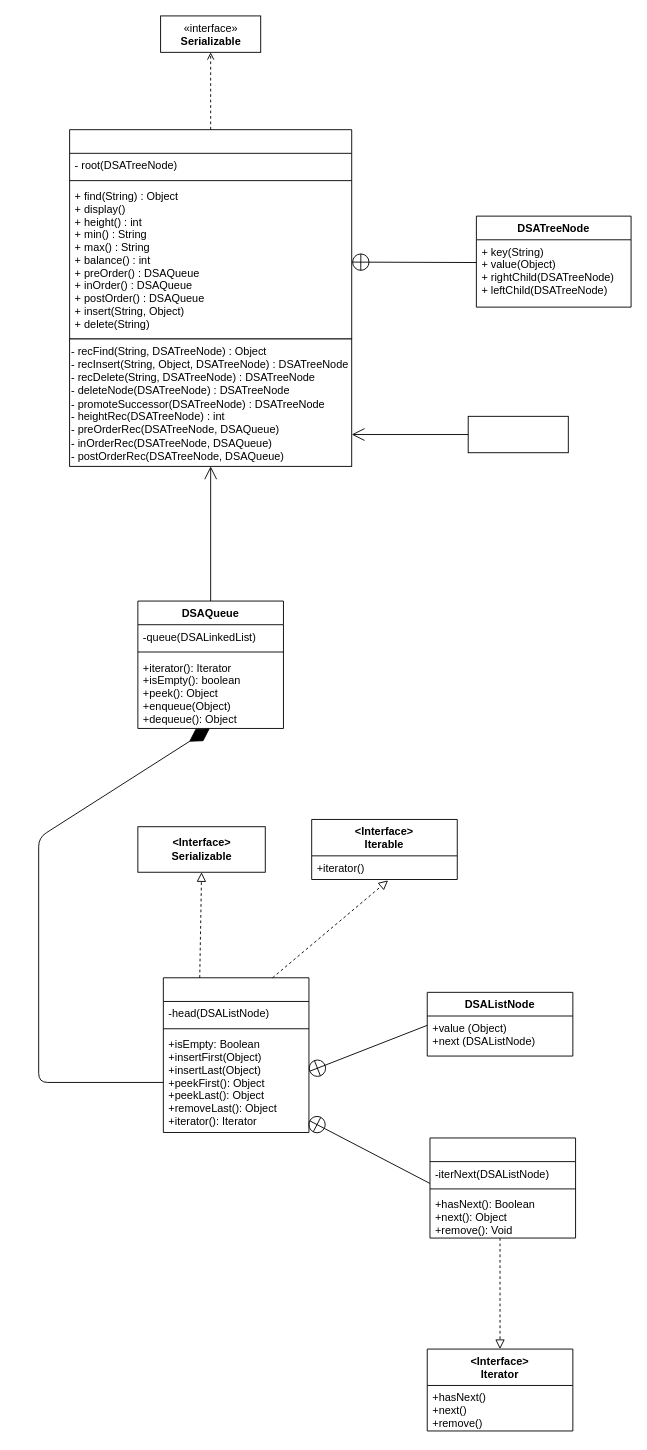
Some shapes in this 647 by 1450 pixel diagram are drawn without their labels. The shapes that lost their labels are listed below. From the top down, each one's box as (x1, y1, x2, y2) in pixels, then its label:
(69, 129, 352, 339): DSABinarySearchTree
(467, 415, 568, 453): UnitTestDSABST
(162, 977, 309, 1132): DSALinkedList
(429, 1137, 576, 1238): DSALinkedListIterator
